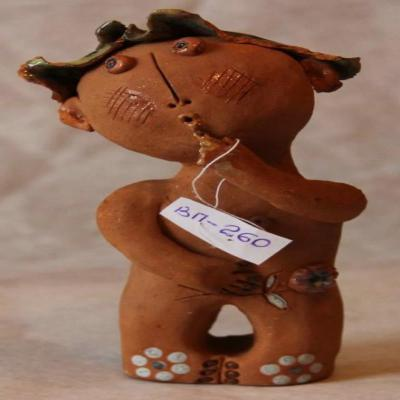sculpture: (20, 8, 368, 388)
